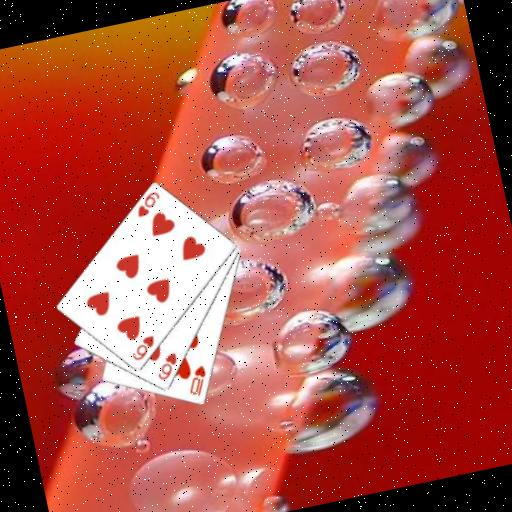10H: (181, 361, 211, 399)
6H: (130, 187, 165, 219), (151, 349, 183, 383), (125, 332, 159, 364)
